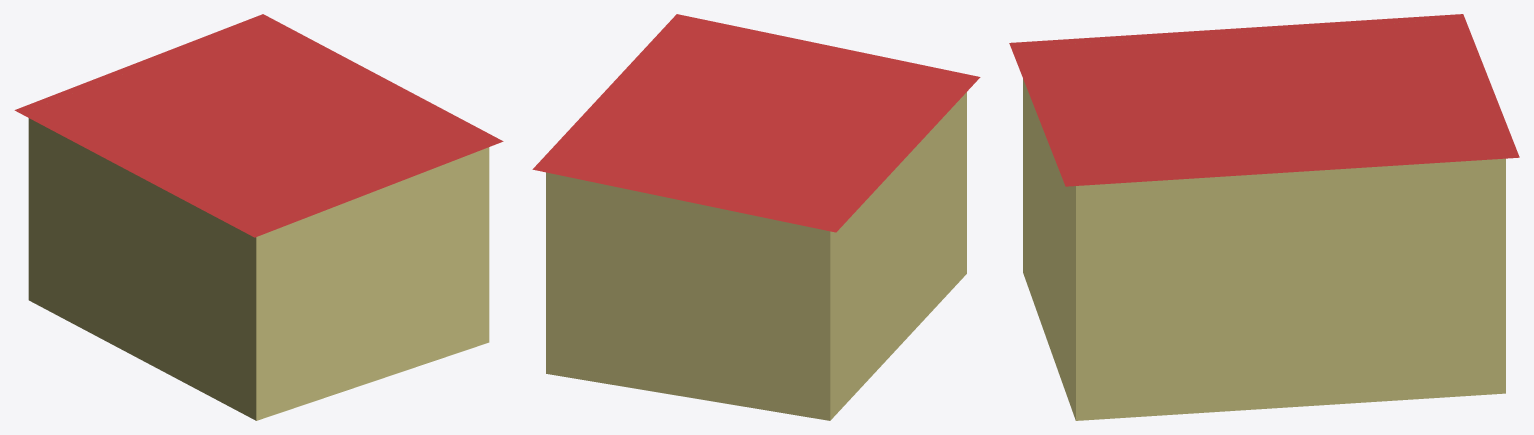
The picture shows the model from 3 angles, left to right: view 1: azimuth 30°, elevation 25°; view 2: azimuth 150°, elevation 25°; view 3: azimuth 270°, elevation 25°; orthographic projection. The views are drawn at different scales.
Size of the model in its own units: 9.04 by 10.41 by 5.4.
